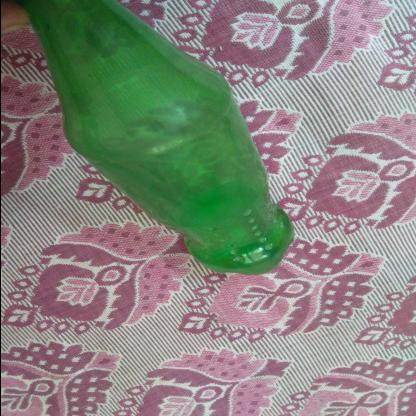bottle: (1, 193, 232, 405)
